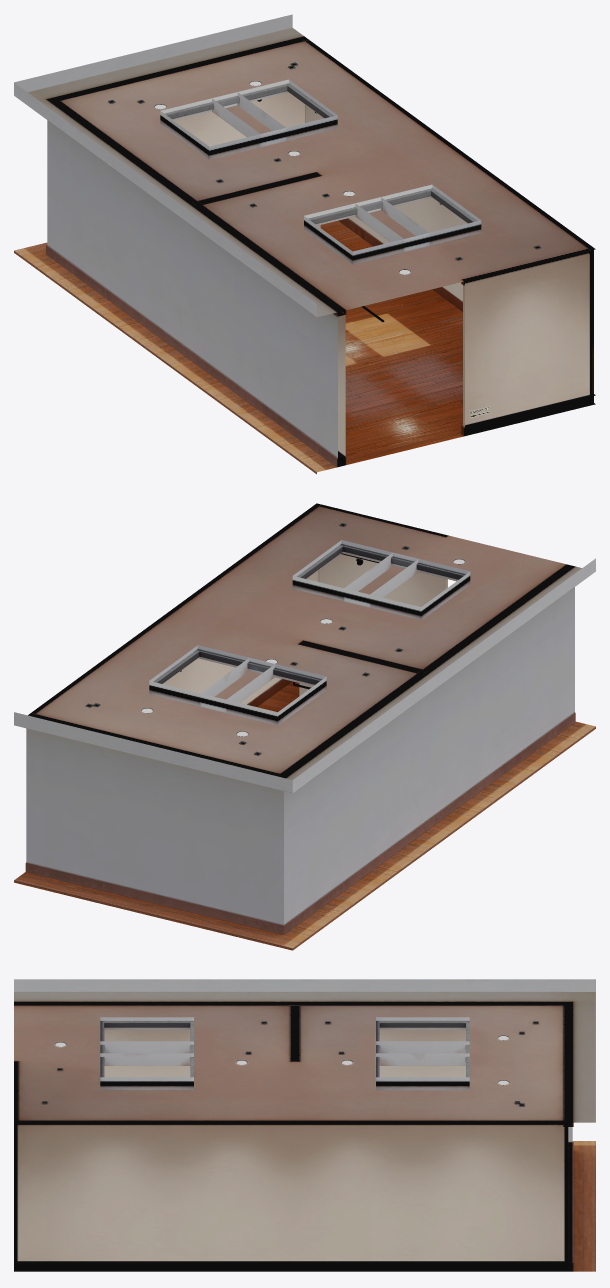
The model's file is room_4.glb.
The picture shows the model from 3 angles, top to bottom: view 1: azimuth 30°, elevation 25°; view 2: azimuth 150°, elevation 25°; view 3: azimuth 270°, elevation 25°; orthographic projection. The views are drawn at different scales.
Visible parts, largest first — view 1: room_4; view 2: room_4; view 3: room_4.
Part boxes in pixels (bbox=[...]): room_4: bbox=[14, 14, 595, 474]; room_4: bbox=[14, 503, 595, 950]; room_4: bbox=[14, 979, 595, 1271].
Bounding box in the file's own units: 6.6 × 3.85 × 12.41.
Materials: 2 (2 with a texture image).
